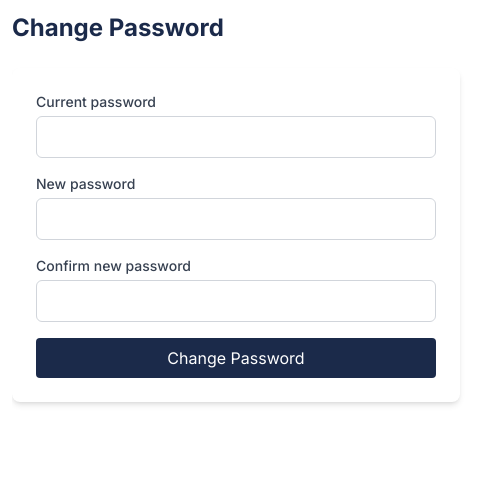
Test: Admin change-password page (/admin/change-password) › shows an inline error when the new password is too short
The width and height of the screenshot is (478, 485).
Step 1. Type "old-pass-123" into the password field labelled "Current password" → (236, 137), box x1=36 y1=116 x2=436 y2=158
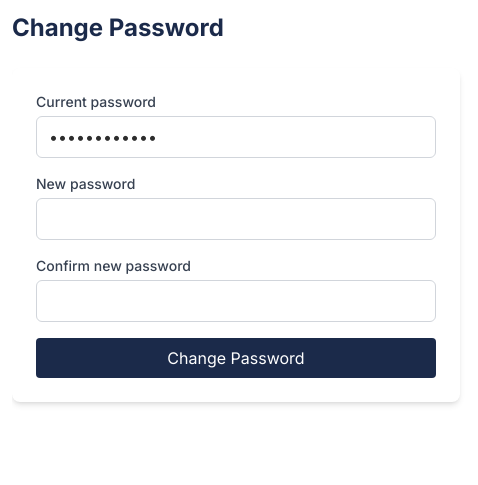
Step 2. Type "short" into the password field labelled "New password" → (236, 219), box x1=36 y1=198 x2=436 y2=240
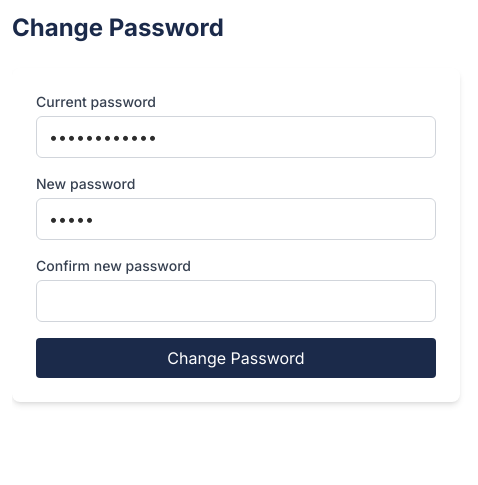
Step 3. Type "short" into the password field labelled "Confirm new password" → (236, 301), box x1=36 y1=280 x2=436 y2=322
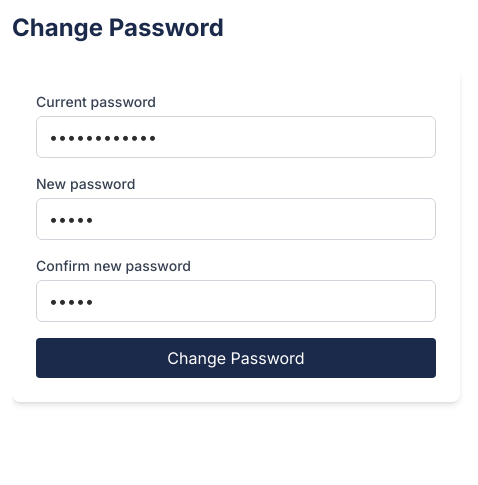
Step 4. Click the button "Change Password" → (236, 358), box x1=36 y1=338 x2=436 y2=378
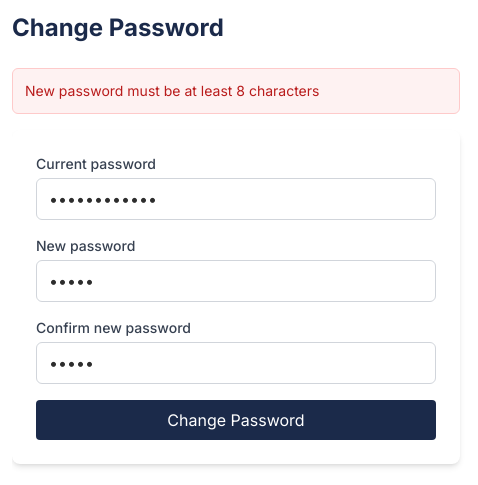
Expected: the text "New password must be at least 8 characters" is shown, x1=12 y1=68 x2=460 y2=114
